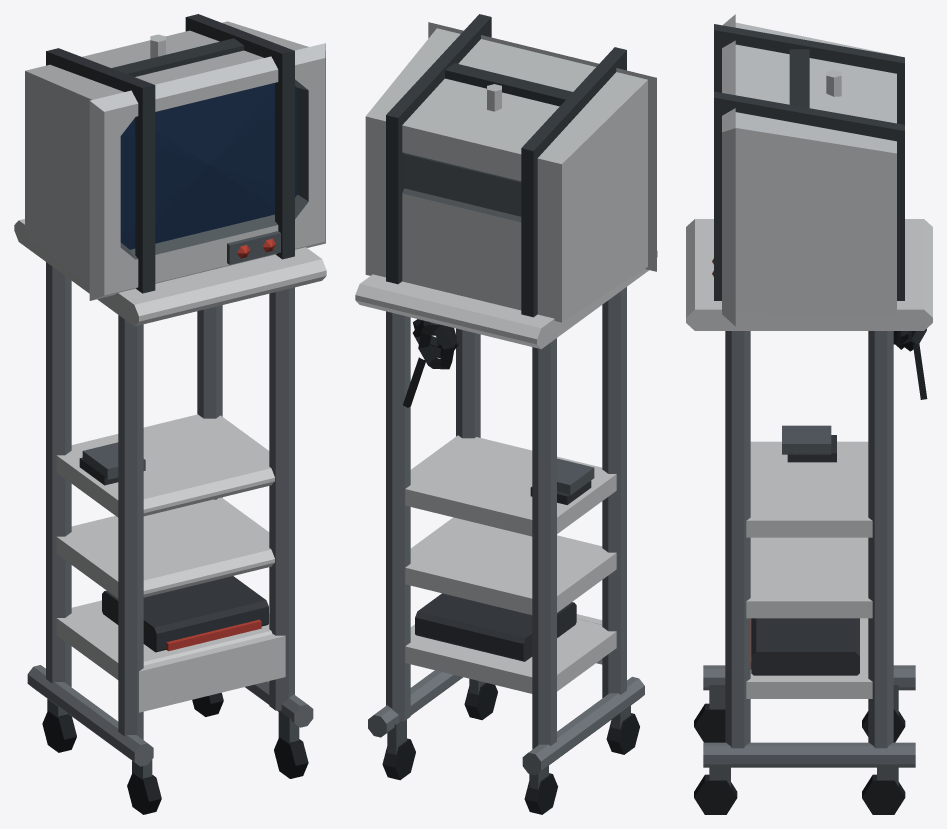
The model's file is class-tv-trolley-2f9fa2.glb.
The picture shows the model from 3 angles, left to right: view 1: azimuth 30°, elevation 25°; view 2: azimuth 150°, elevation 25°; view 3: azimuth 270°, elevation 25°; orthographic projection. The views are drawn at different scales.
Visible parts, largest first — view 1: trolley, deck-mesh, wheel-mesh-wheel-fl, wheel-mesh-wheel-fr, wheel-mesh-wheel-rr; view 2: trolley, deck-mesh, wheel-mesh-wheel-fr, wheel-mesh-wheel-rl, wheel-mesh-wheel-rr, wheel-mesh-wheel-fl; view 3: trolley, deck-mesh, wheel-mesh-wheel-rl, wheel-mesh-wheel-fl, wheel-mesh-wheel-fr.
Part boxes in pixels (<box>): trolley: <box>14,14,326,766</box>; deck-mesh: <box>102,576,268,652</box>; wheel-mesh-wheel-fl: <box>274,736,308,778</box>; wheel-mesh-wheel-fr: <box>127,772,161,814</box>; wheel-mesh-wheel-rr: <box>42,710,76,752</box>; trolley: <box>355,14,657,775</box>; deck-mesh: <box>415,593,576,661</box>; wheel-mesh-wheel-fr: <box>606,713,639,754</box>; wheel-mesh-wheel-rl: <box>382,738,415,780</box>; wheel-mesh-wheel-rr: <box>524,773,557,814</box>; wheel-mesh-wheel-fl: <box>464,683,497,719</box>; trolley: <box>686,14,932,767</box>; deck-mesh: <box>750,618,859,675</box>; wheel-mesh-wheel-rl: <box>862,774,905,814</box>; wheel-mesh-wheel-fl: <box>694,774,737,814</box>; wheel-mesh-wheel-fr: <box>694,703,725,742</box>.
Size of the model in its own units: 0.5474 by 1.6 by 0.5.
